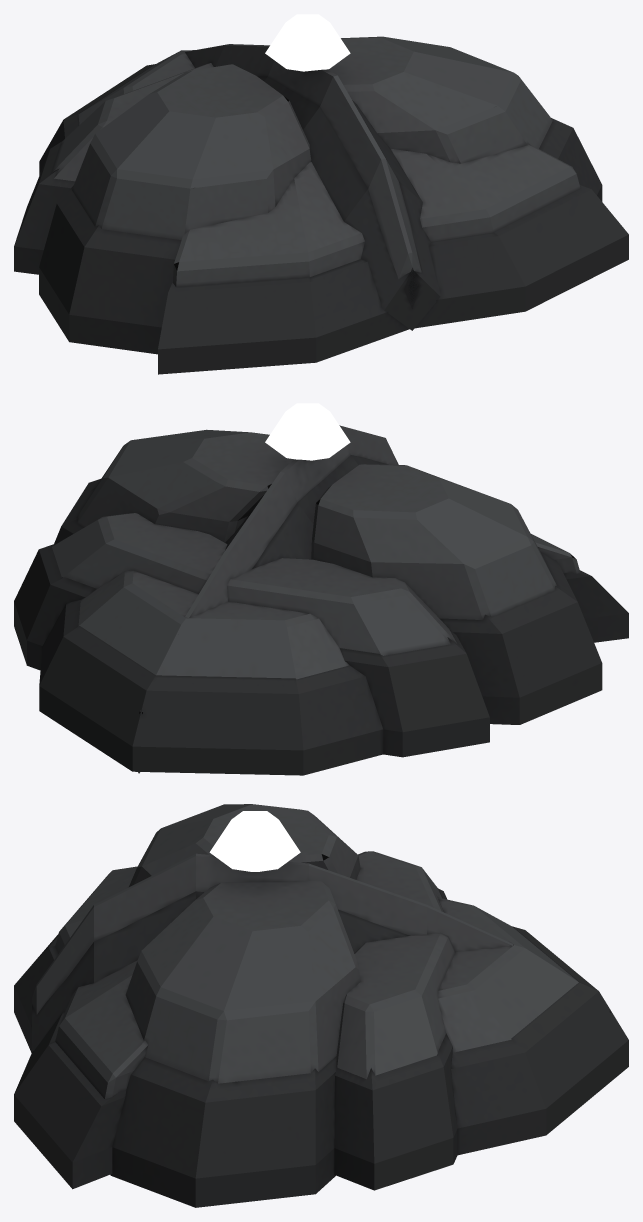
Rendered from armor_chest_ebony.glb.
3 views of the same model, one above another, from view 1: azimuth 30°, elevation 25°; view 2: azimuth 150°, elevation 25°; view 3: azimuth 270°, elevation 25° (orthographic). The views are drawn at different scales.
Visible parts, largest first — view 1: chest; view 2: chest; view 3: chest.
Part boxes in pixels (x1,y1,x2,y2): chest: (14, 14, 628, 374); chest: (14, 403, 628, 775); chest: (14, 804, 628, 1207).
Bounding box in the file's own units: 0.4883 × 0.209 × 0.4576.
Materials: 3 (3 with a texture image).
